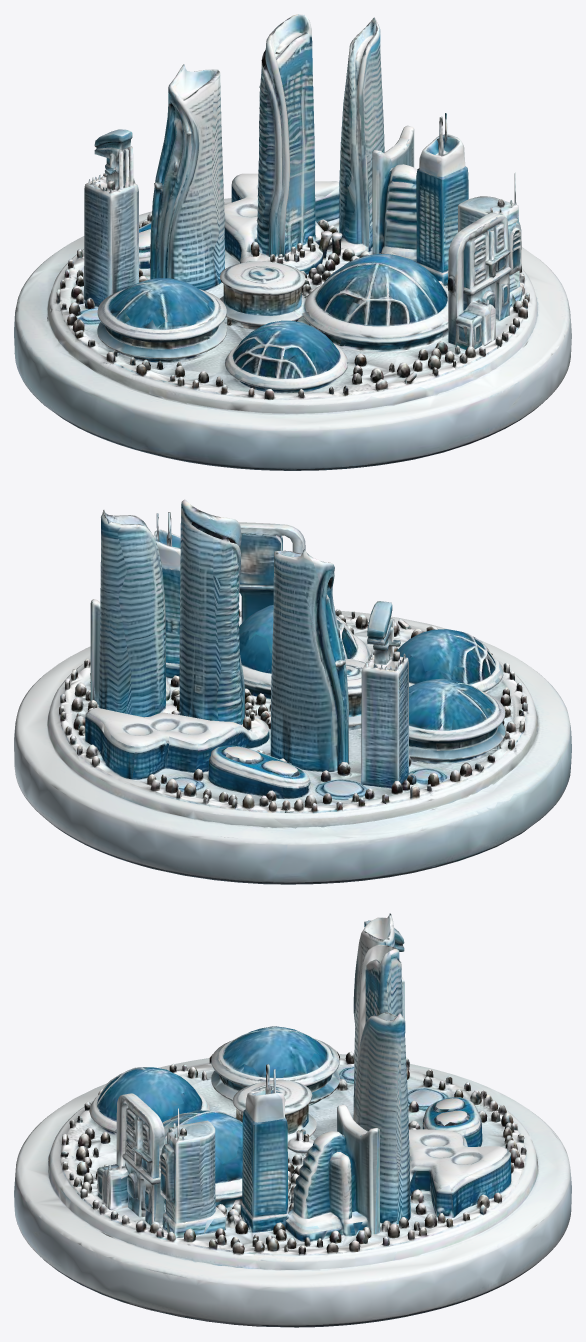
Rendered from city.glb.
The picture shows the model from 3 angles, top to bottom: view 1: azimuth 30°, elevation 25°; view 2: azimuth 150°, elevation 25°; view 3: azimuth 270°, elevation 25°; orthographic projection.
Visible parts, largest first — view 1: city; view 2: city; view 3: city.
Boxes of the visible parts, bbox=[...] form: city: bbox=[14, 14, 571, 470]; city: bbox=[14, 499, 571, 884]; city: bbox=[14, 913, 571, 1327].
Bounding box in the file's own units: 0.9999 × 0.5745 × 1.
1 material, 1 textured.
